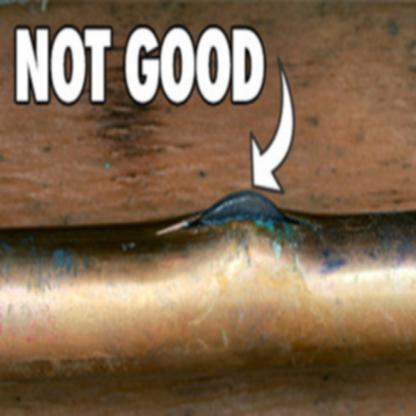burst: (200, 187, 306, 241)
